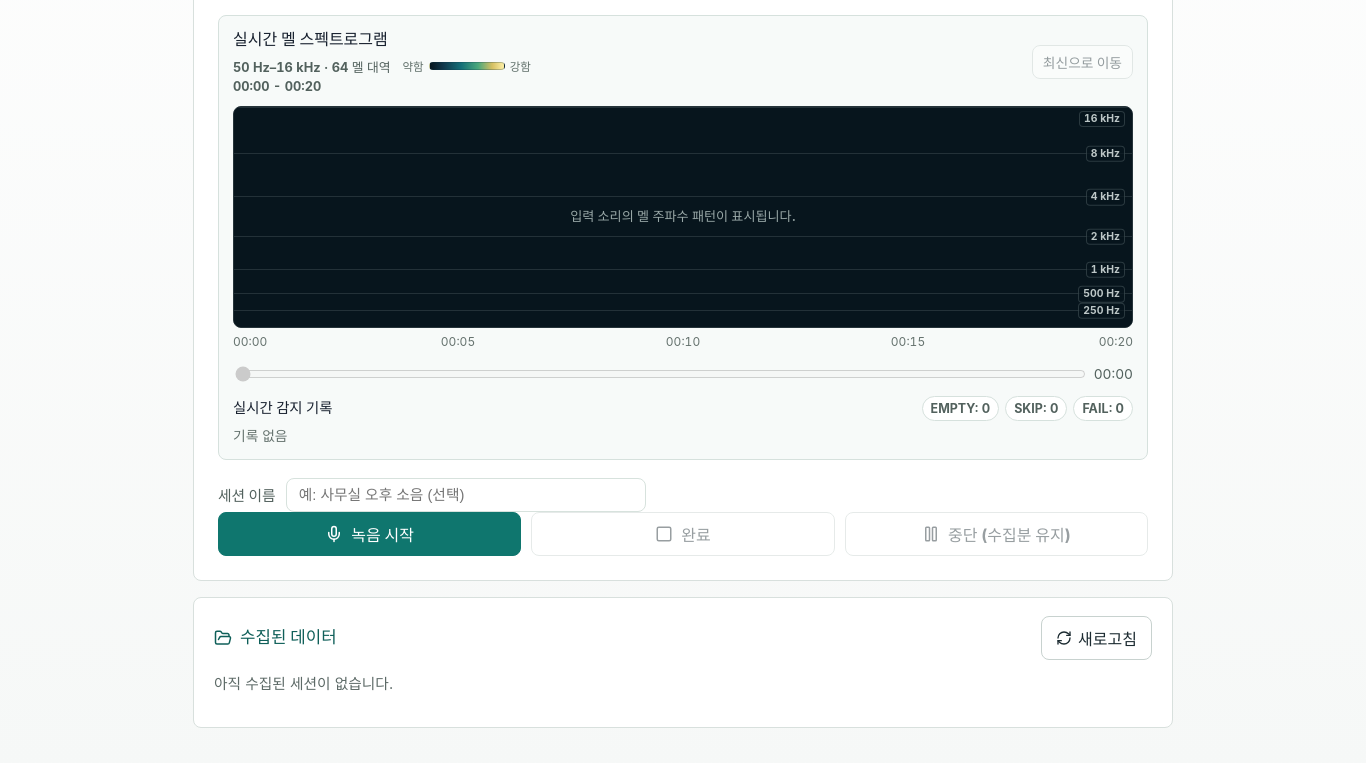
Test: App › does not create a full MediaRecorder recording or expose whole-file analysis
This screenshot has width=1366, height=763.
(page scrolled)
Step 1. Click the button "녹음 시작" → (370, 534), box [218,512,521,556]
(page scrolled)
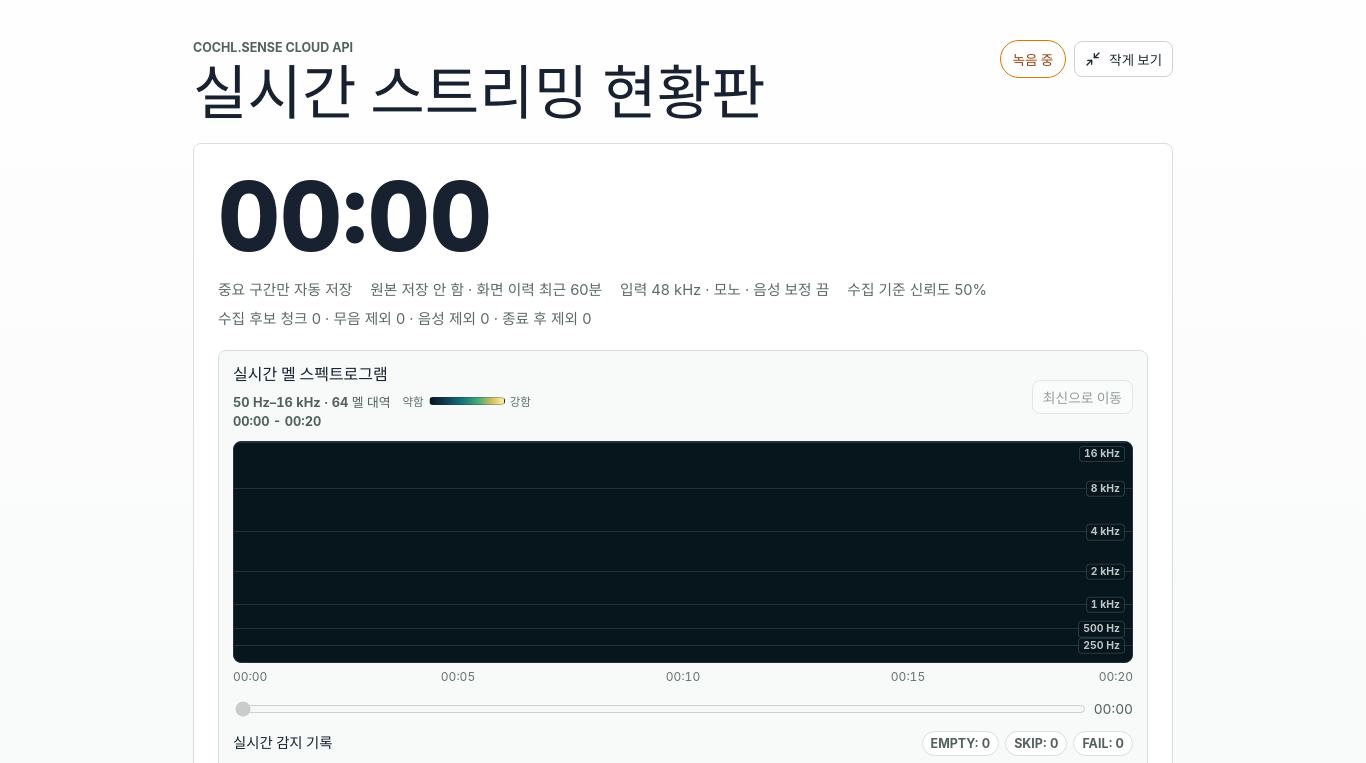
Check: the text "원본 저장 안 함 · 화면 이력 최근 60분" is shown, box [370,278,602,299]
Check: the text "녹음 중" is shown, box [1000,40,1066,78]
